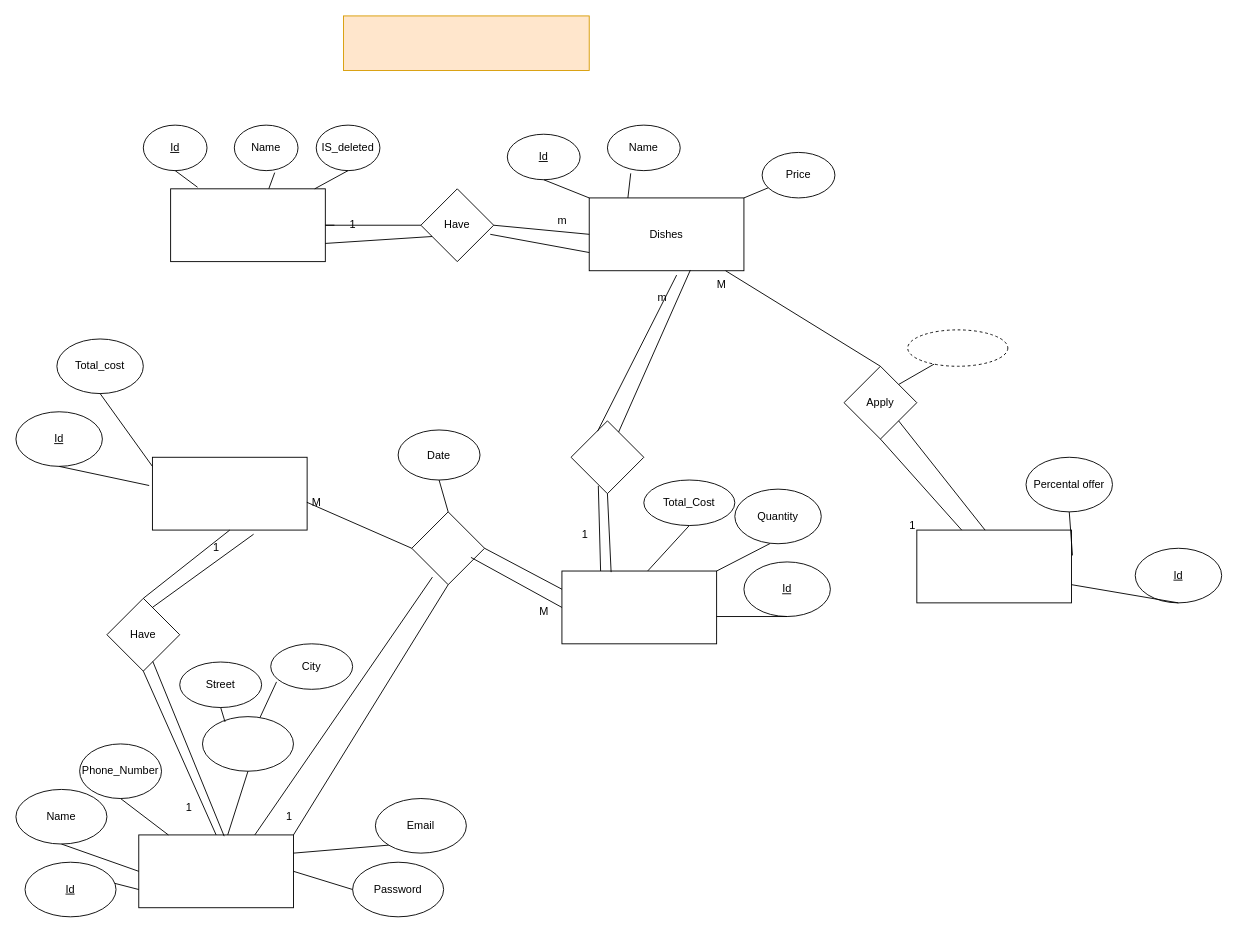
Some shapes in this 1238 by 933 pixel diagram are drawn without their labels. Here are the shapes that lost their labels. From the top down, the centre of each, then its label:
At point 466,43: "Wally Sysytem".
At point 247,225: "Categories".
At point 957,347: "Discounded_Price".
At point 607,457: "Contain".
At point 229,493: "Cart".
At point 448,548: "Order".
At point 994,566: "Offer".
At point 639,607: "Orders".
At point 247,743: "Address".
At point 215,871: "Client".
